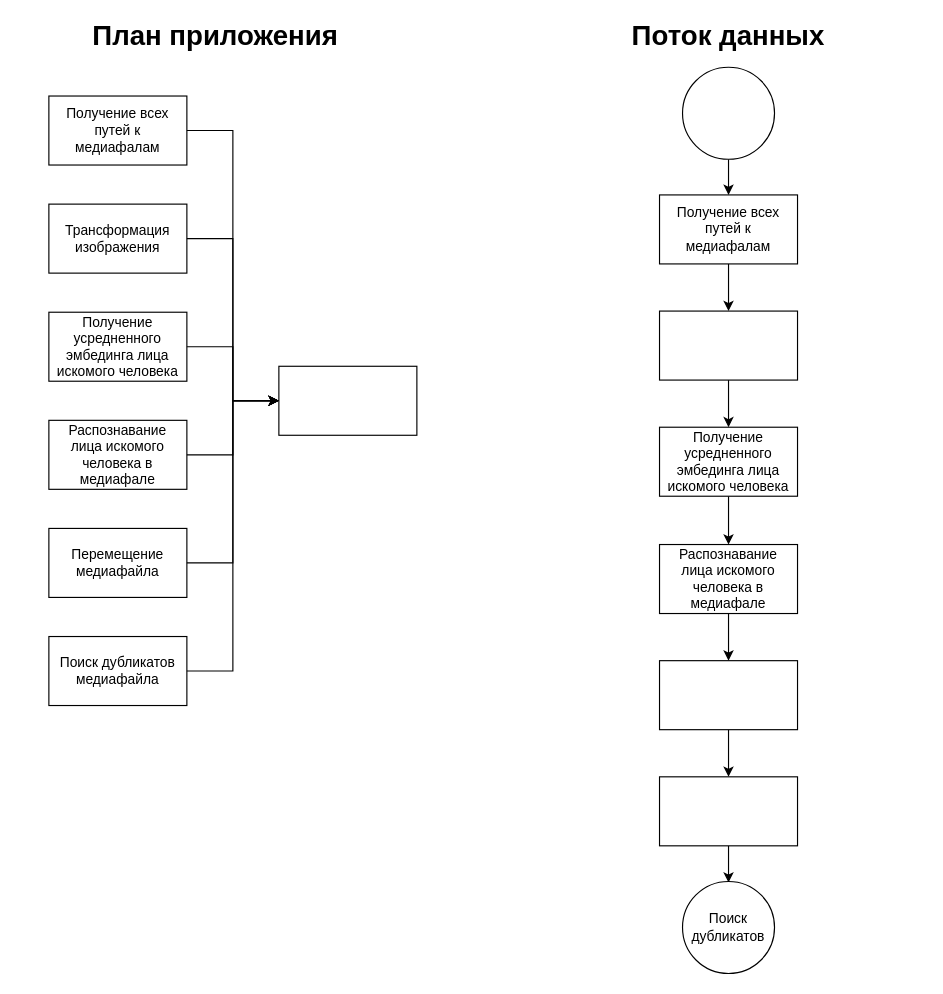
The diagram is 943 pixels wide and 994 high, and some of its shapes have lost their labels. Each missing label, with the centre of its shape:
Задание по расписанию: the point at 347,400
Запись в бд признака, что путь обработан: the point at 728,811
Запись путей в бд: the point at 728,345
Перемещение медиафайла по необходимому пути: the point at 728,695
Получение всех медиафайлов: the point at 728,112
